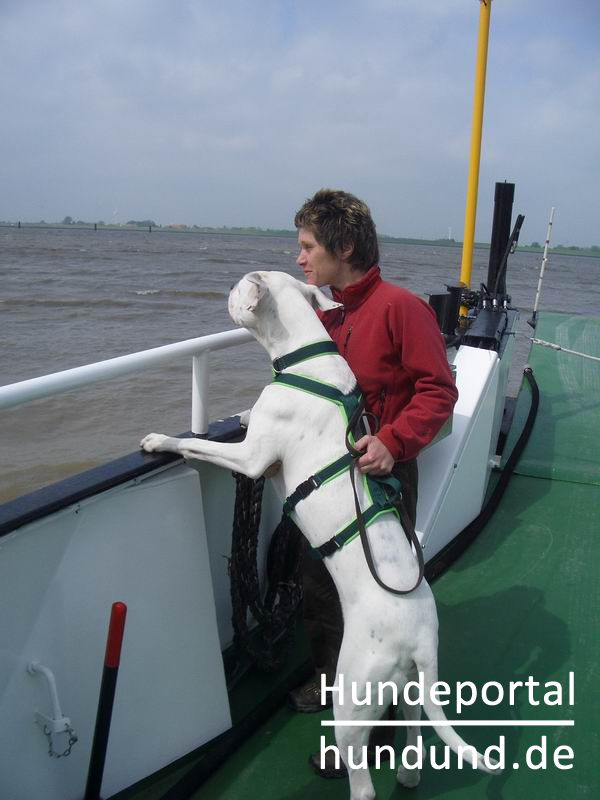dogo_argentino: (139, 269, 503, 800)
person: (292, 188, 457, 775)
